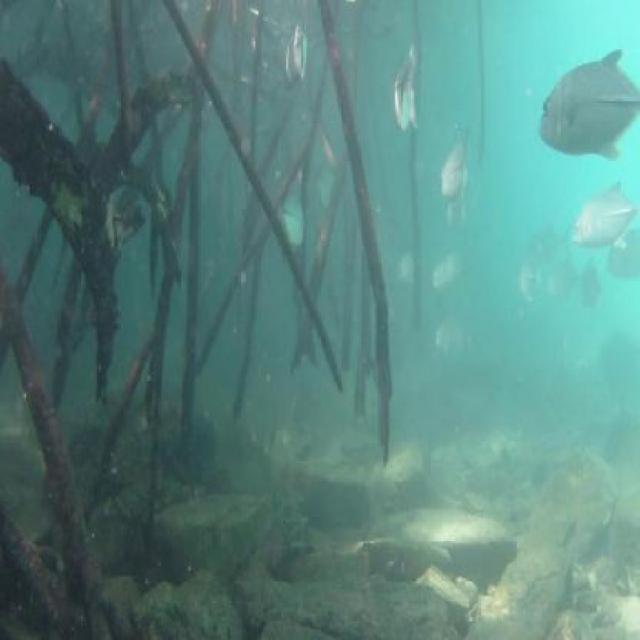Caranx_sexfasciatus_juvenile: (537, 41, 640, 170), (570, 172, 635, 255), (382, 40, 420, 152), (272, 16, 308, 112), (270, 178, 308, 264), (388, 230, 424, 315), (436, 126, 472, 206), (522, 213, 567, 272), (432, 307, 468, 378), (428, 242, 463, 302), (512, 256, 543, 319), (607, 229, 640, 288), (540, 248, 574, 302), (311, 159, 335, 232), (577, 268, 608, 324)
